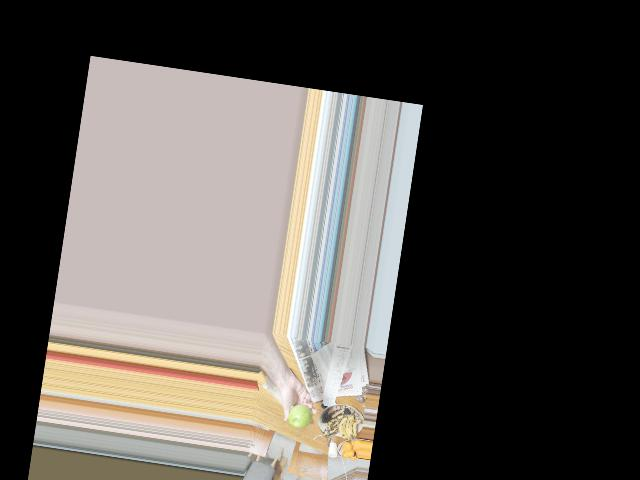apple: (283, 400, 314, 432)
